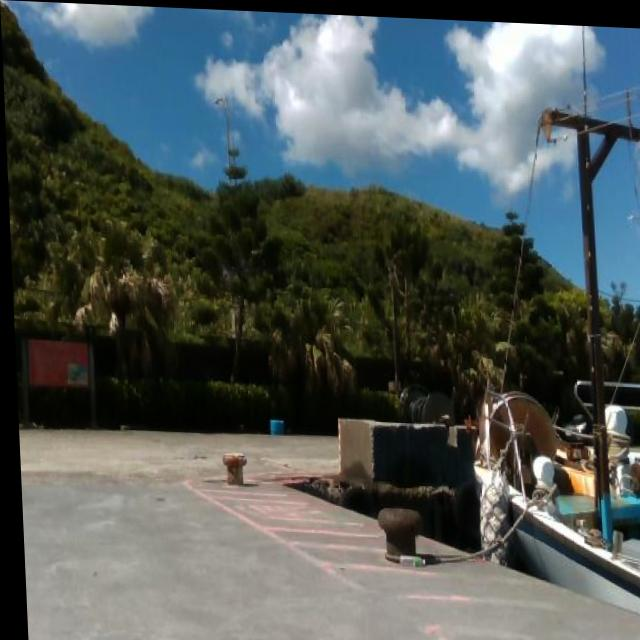pollute: (264, 415, 282, 434)
